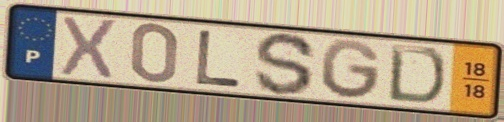0: (126, 21, 181, 86)
D: (385, 41, 448, 107)
G: (318, 37, 384, 102)
L: (192, 27, 245, 90)
S: (253, 30, 319, 98)
X: (57, 14, 121, 83)
